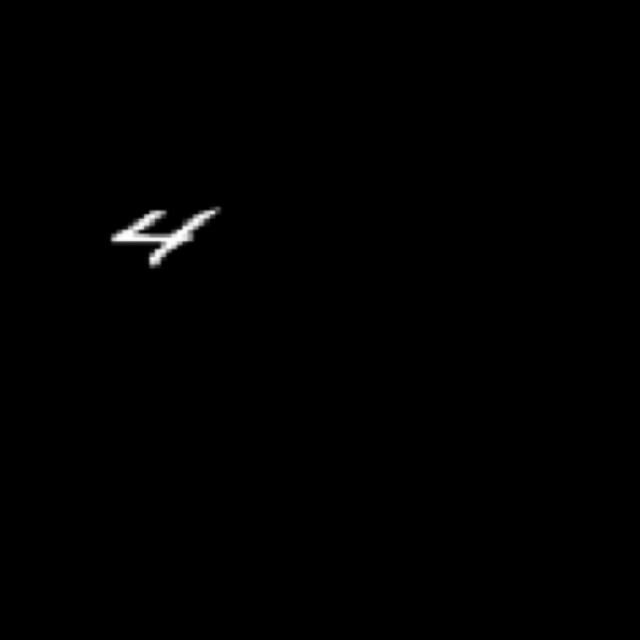four -4-: (97, 180, 226, 294)
